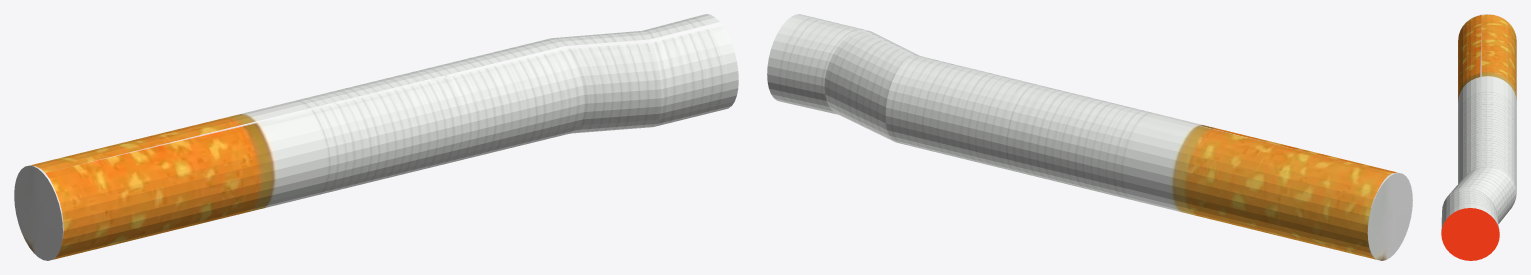
Rendered from cigaret.glb.
3 views of the same model, side by side, from view 1: azimuth 30°, elevation 25°; view 2: azimuth 150°, elevation 25°; view 3: azimuth 270°, elevation 25° (orthographic). The views are drawn at different scales.
Visible parts, largest first — view 1: Cylinder; view 2: Cylinder; view 3: Cylinder.
Boxes of the visible parts, <box> form: Cylinder: <box>14,14,738,260</box>; Cylinder: <box>767,14,1412,260</box>; Cylinder: <box>1441,14,1516,260</box>.
Size of the model in its own units: 5.77 by 0.7341 by 0.9445.
Materials: 2 (1 with a texture image).
